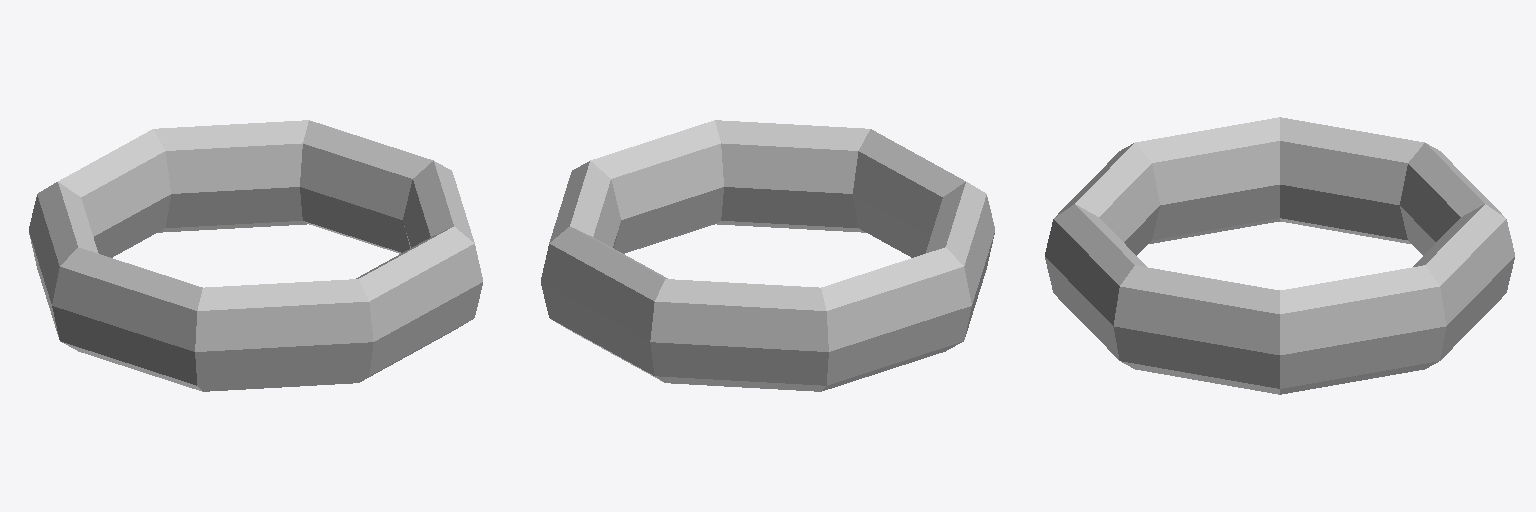
Rendered from octahedron_smoothed_30.obj.
3 views of the same model, side by side, from view 1: azimuth 30°, elevation 25°; view 2: azimuth 150°, elevation 25°; view 3: azimuth 270°, elevation 25° (orthographic).
Bounding box in the file's own units: 4.09 × 0.9998 × 4.09.